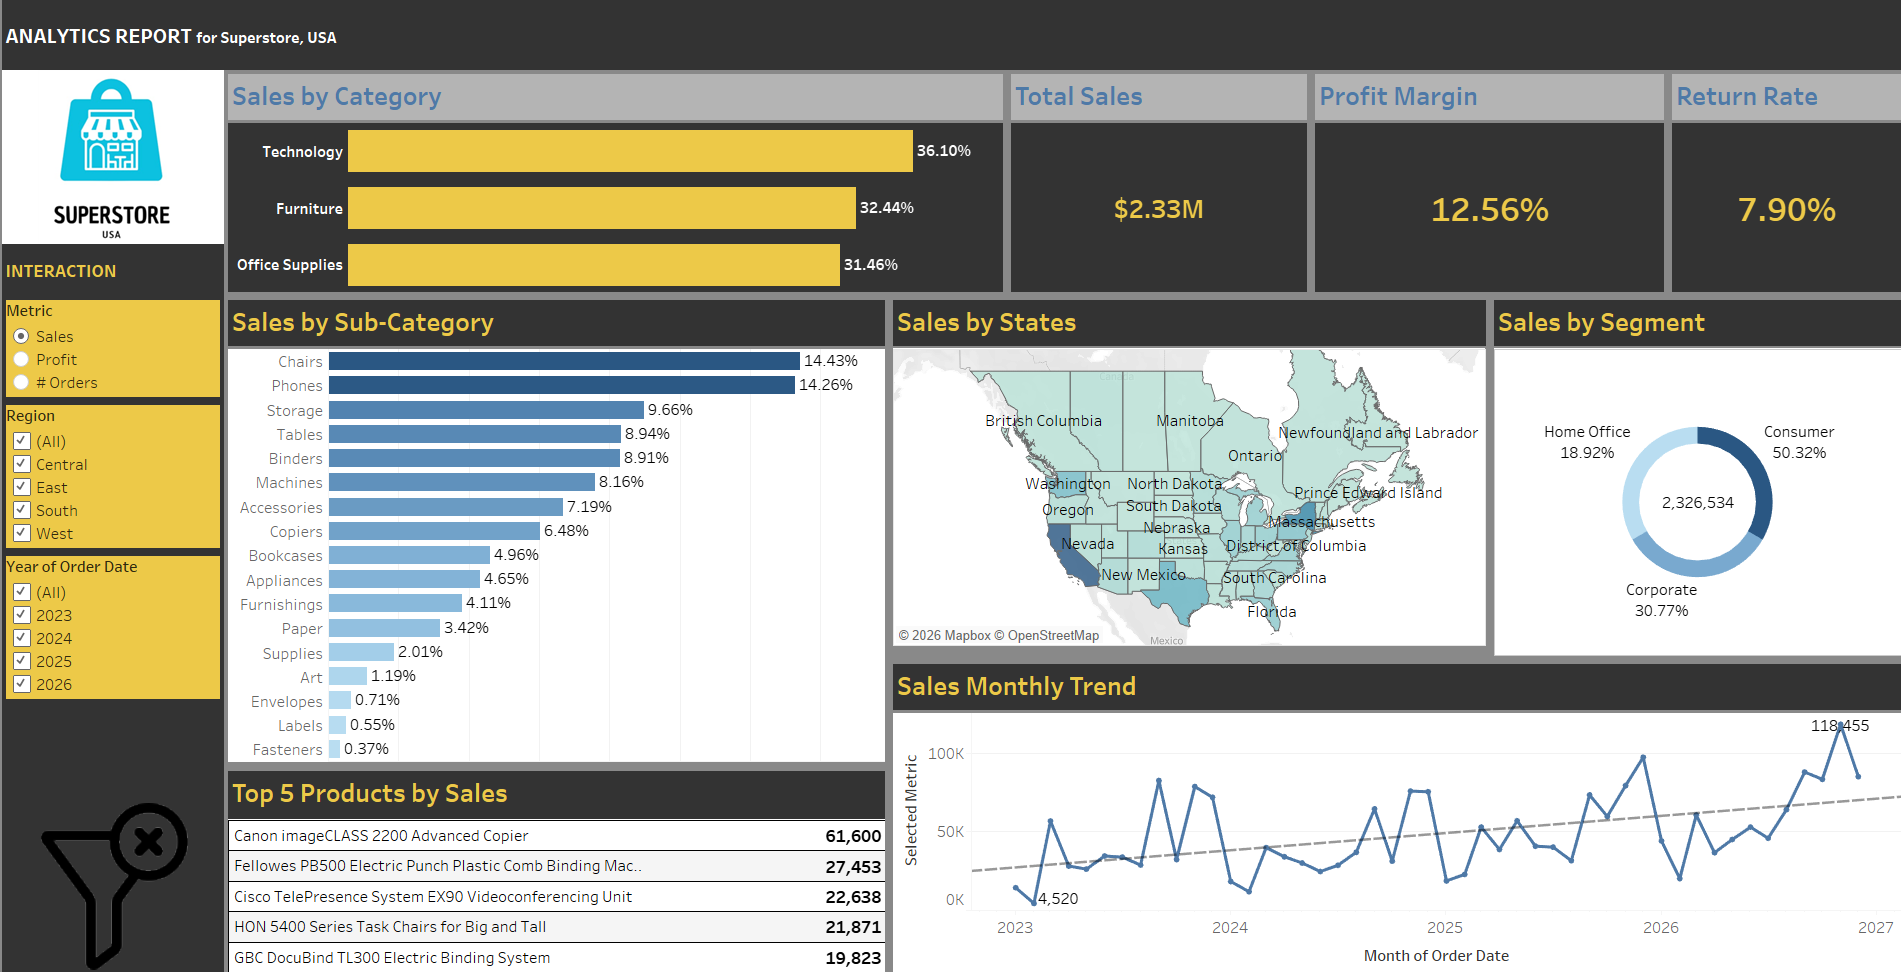

This screenshot's page, from the dashboard's own definition file:
{"tool":"tableau","page":{"name":"Final Dashboard","canvas":[1000,1000],"units":"permille","ordinal":0},"visuals":[{"type":"text","box":[4.8,10,990.3,69.9]},{"type":"image","param":"Image/Screenshot 2026-08-24 193931.png","box":[4.8,79.9,115.2,174.8]},{"type":"worksheet","title":"Category","mark":"Automatic","rows":["Category"],"cols":["Calculation_1862238483544436746"],"box":[120.1,79.9,407.5,227.5]},{"type":"worksheet","title":"Total Sales","mark":"Automatic","box":[527.6,79.9,158,227.5]},{"type":"worksheet","title":"Profit Margin","mark":"Automatic","box":[685.6,79.9,186,227.5]},{"type":"worksheet","title":"Return Rate KPI","mark":"Automatic","box":[871.6,79.9,123.6,227.5]},{"type":"text","box":[4.8,254.7,115.2,52.4]},{"type":"parameter","param":"[Parameters].[Parameter 2]","box":[4.8,307.1,115.2,131.1]},{"type":"worksheet","title":"Sub-category","mark":"Automatic","rows":["Sub-Category"],"cols":["Calculation_1862238483544436746"],"box":[120.1,307.4,346.3,471.6]},{"type":"worksheet","title":"Sales by States","mark":"Multipolygon","box":[466.4,307.4,312.5,364.9]},{"type":"worksheet","title":"Sales by Segment","mark":"Pie","rows":["Calculation_1862238483550863374","Calculation_1862238483550871568"],"box":[778.9,307.4,216.3,364.9]},{"type":"filter","title":"Sub-category","param":"[federated.0k17pc00cersf41cxx7rs15ydtot].[none:Region:nk]","box":[4.8,438.2,115.2,188.5]},{"type":"filter","title":"Sub-category","param":"[federated.0k17pc00cersf41cxx7rs15ydtot].[yr:Order Date:ok]","box":[4.8,626.7,115.2,188.5]},{"type":"worksheet","title":"Monthly Trend","mark":"Line","rows":["Calculation_1862238483544436746"],"cols":["Order Date"],"box":[466.4,672.3,528.8,317.7]},{"type":"worksheet","title":"Top 5 Products","mark":"Automatic","rows":["Product Name"],"box":[120.1,779,346.3,211]},{"type":"dashboard-object","box":[6.6,816.5,111.7,168.5]}]}

Visuals, with their boxes on the dashboard's canvas, which has no fixed pixel size, in thousandths of its width and height (x1, y1, x2, y2). These are canvas units, not pixel positions in the 1901x972 screenshot, which may show the page scaled, cropped or inside an application window:
text: box=[5, 10, 995, 80]
image: box=[5, 80, 120, 255]
"Category" worksheet: box=[120, 80, 528, 307]
"Total Sales" worksheet: box=[528, 80, 686, 307]
"Profit Margin" worksheet: box=[686, 80, 872, 307]
"Return Rate KPI" worksheet: box=[872, 80, 995, 307]
text: box=[5, 255, 120, 307]
parameter: box=[5, 307, 120, 438]
"Sub-category" worksheet: box=[120, 307, 466, 779]
"Sales by States" worksheet (Multipolygon marks): box=[466, 307, 779, 672]
"Sales by Segment" worksheet (Pie marks): box=[779, 307, 995, 672]
"Sub-category" filter: box=[5, 438, 120, 627]
"Sub-category" filter: box=[5, 627, 120, 815]
"Monthly Trend" worksheet (Line marks): box=[466, 672, 995, 990]
"Top 5 Products" worksheet: box=[120, 779, 466, 990]
dashboard-object: box=[7, 816, 118, 985]
